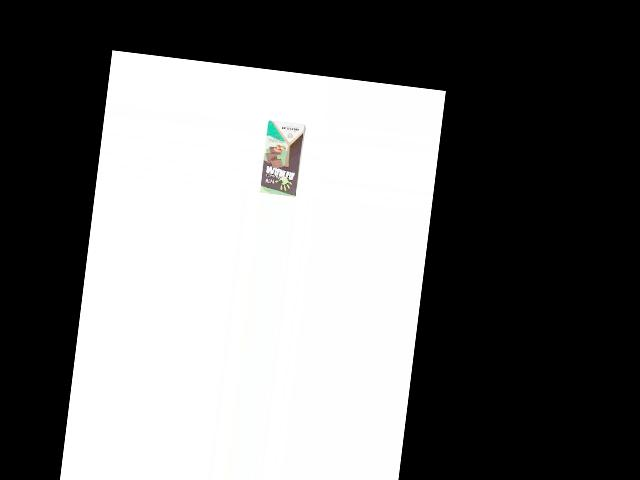chocolate: (257, 118, 307, 198)
